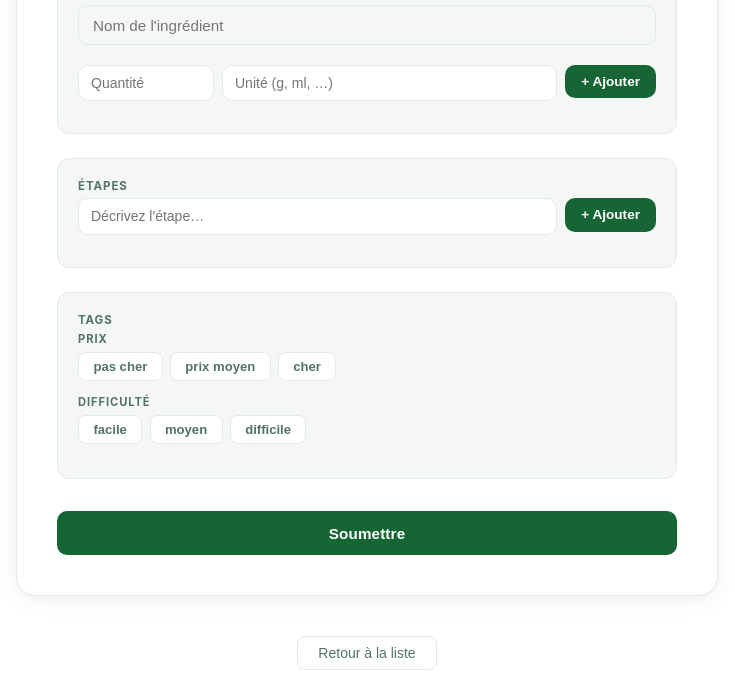
RecetteForm — mode création › validation — nom vide affiche le message d'erreur
The image size is (735, 700).
(page scrolled)
Click the button "Soumettre" at (367, 533), box [57,511,677,555]
(page scrolled)
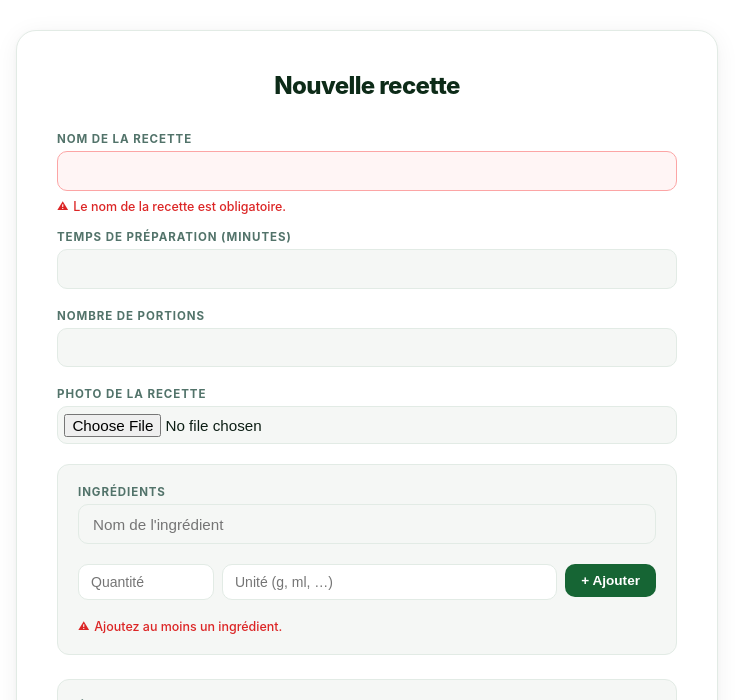
Check: the text "Le nom de la recette est obligatoire." is shown, box [73,199,286,214]
